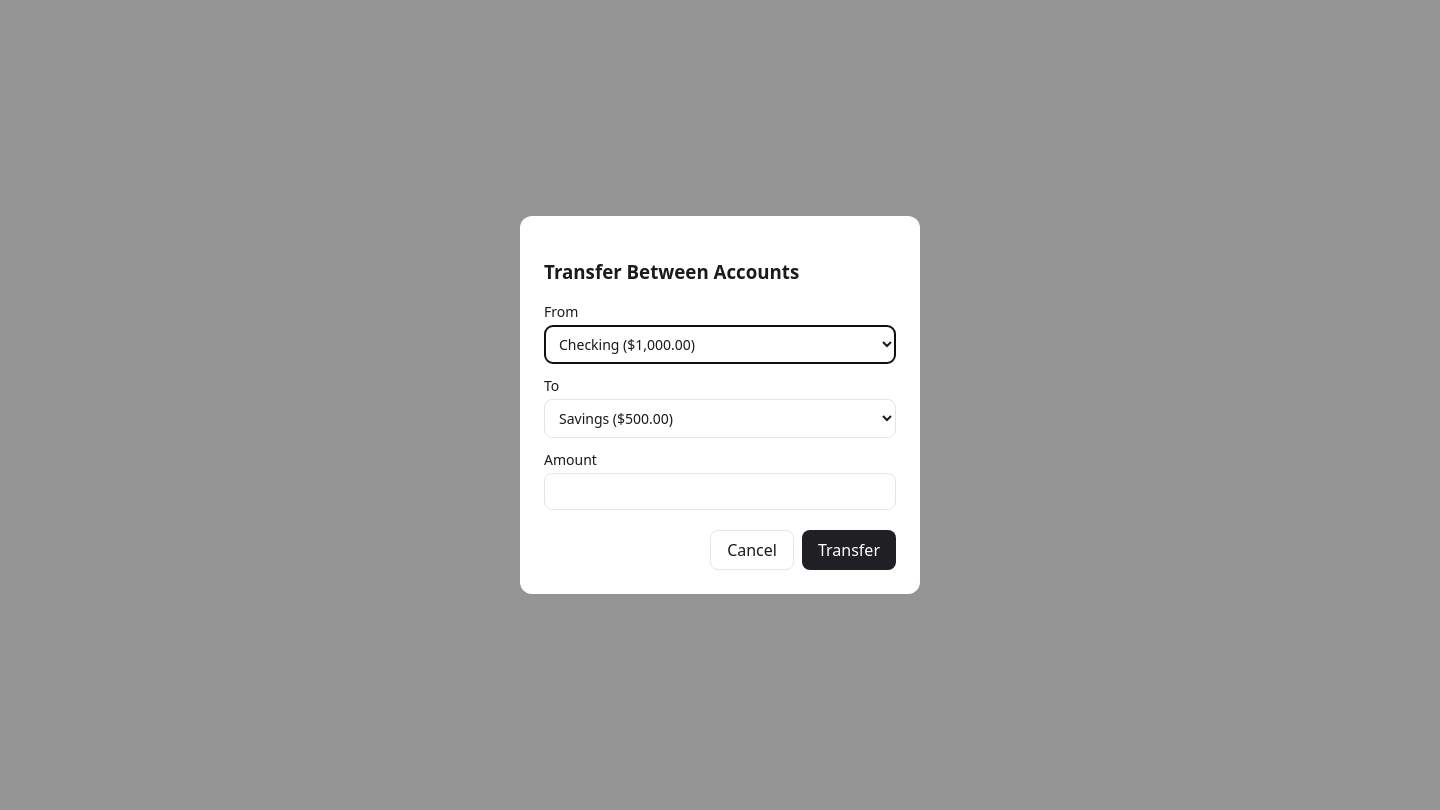
Scenario: TransferModal › shows a validation error when the amount is not positive
This screenshot has width=1440, height=810.
Type "0" into the number field labelled "Amount".
click(720, 492); type("0")  # box [544, 473, 896, 510]
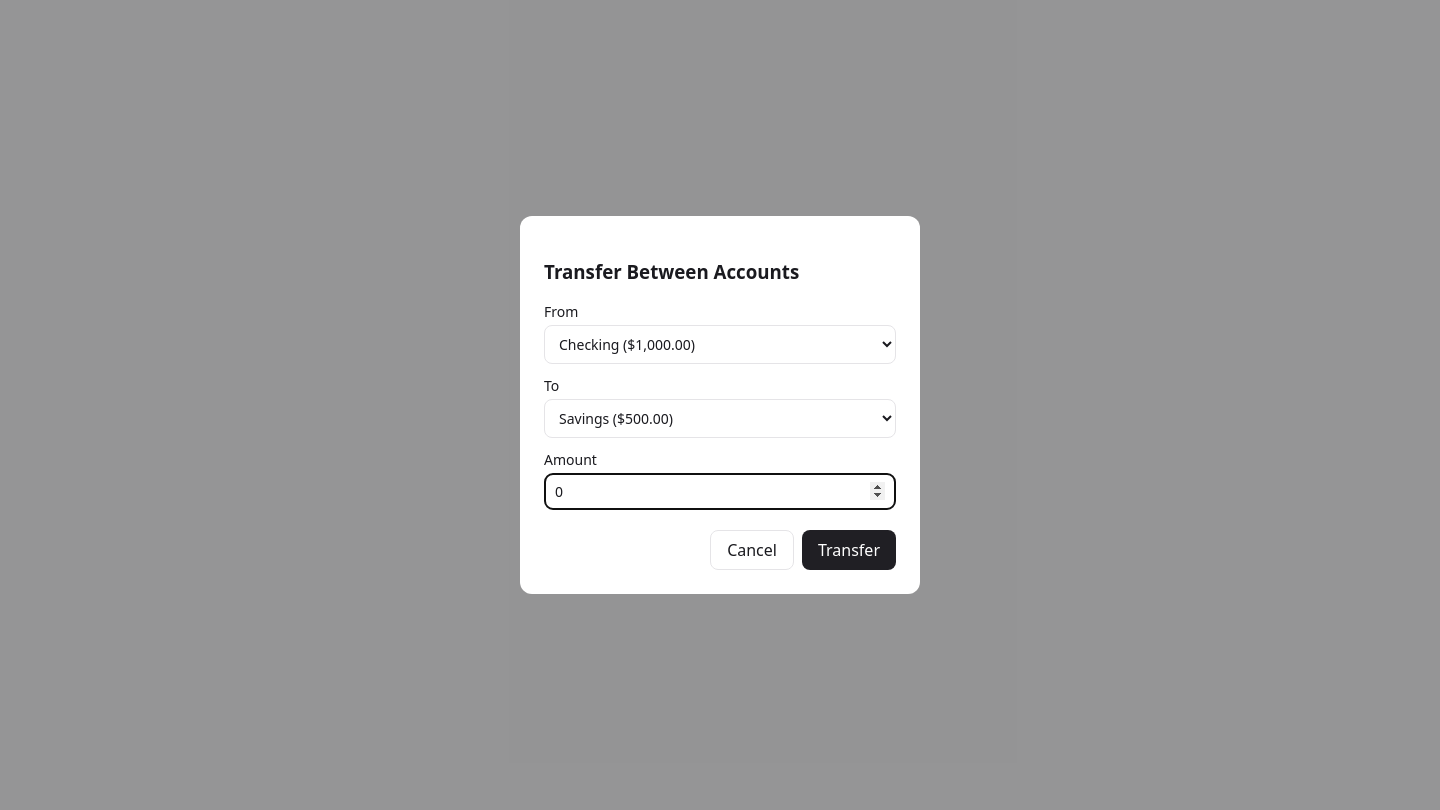
Click the button "Transfer".
click(849, 550)  # box [802, 530, 896, 570]
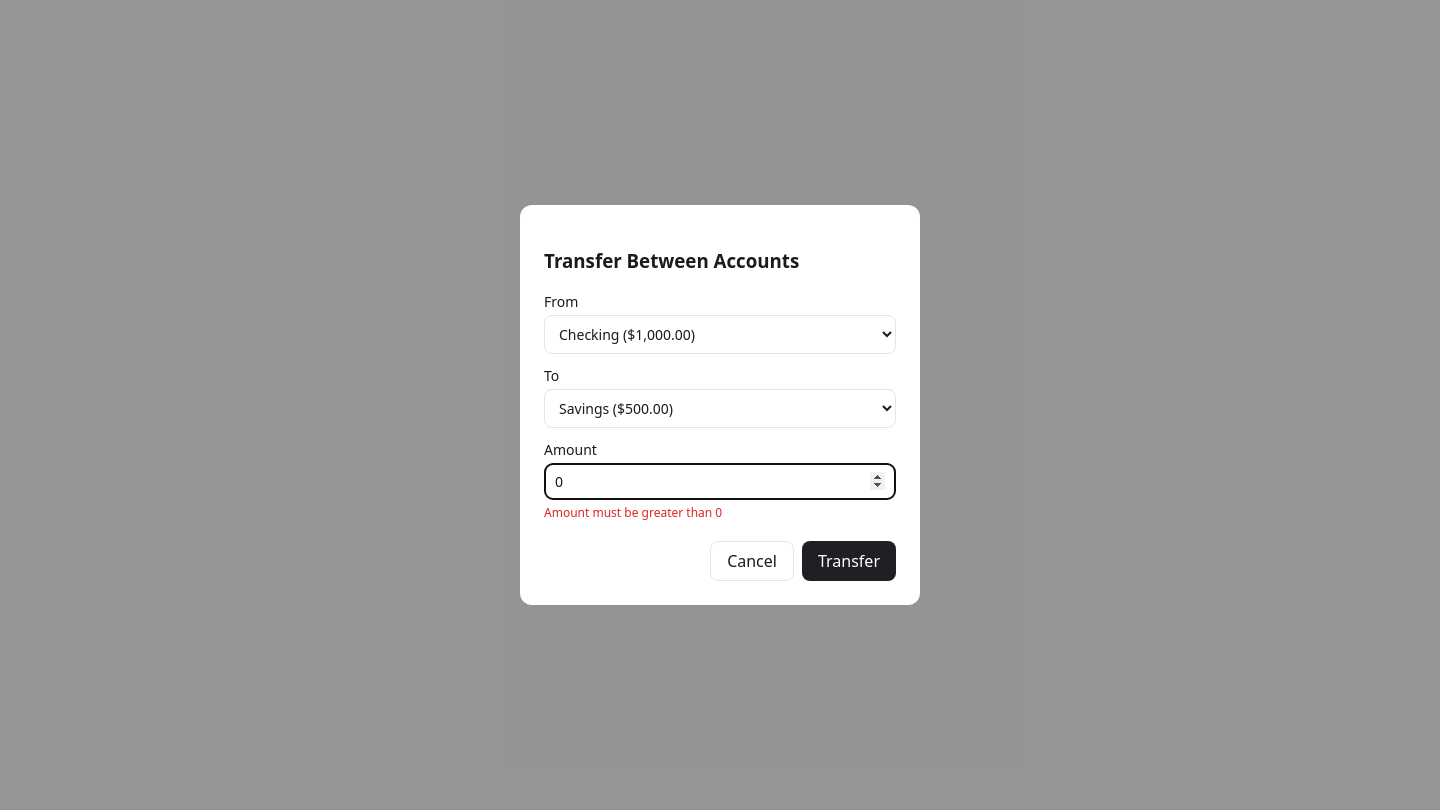
Result: the text "Amount must be greater than 0" is shown at [544, 504, 722, 521]
